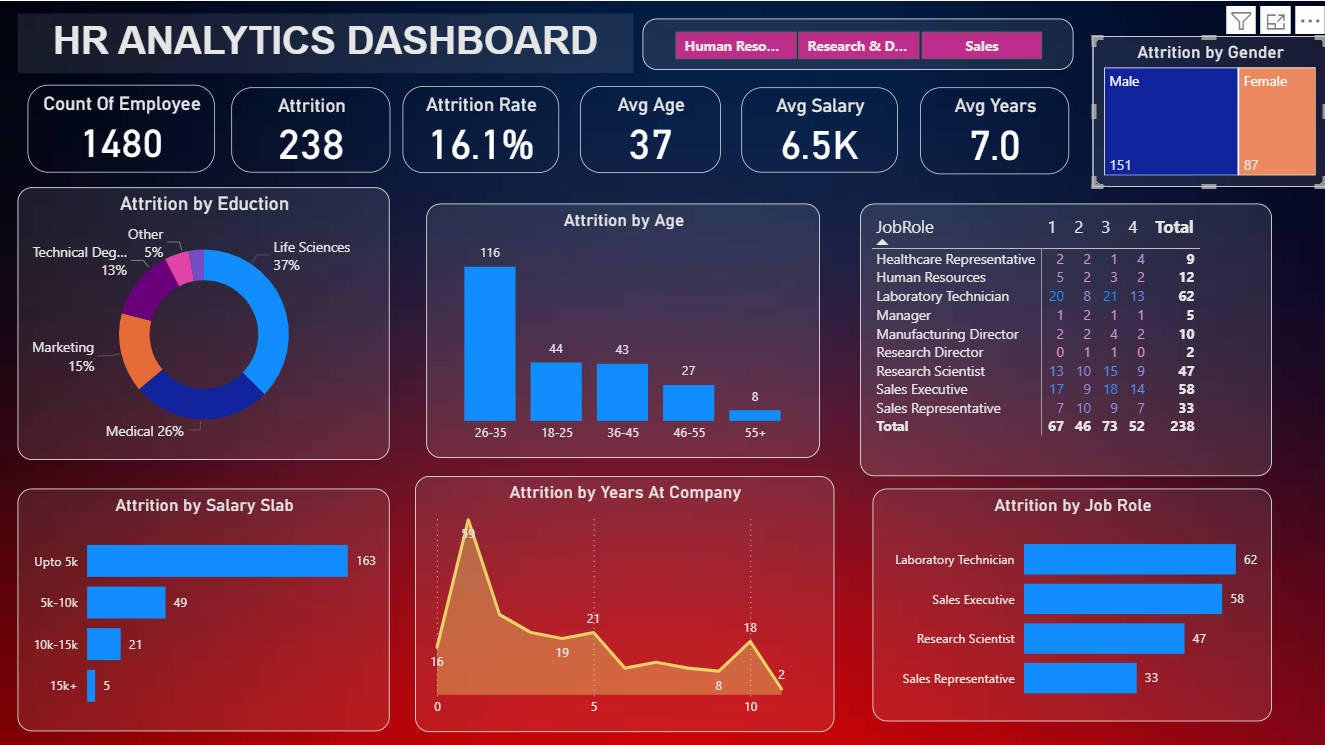

What the dashboard file says about the page in this screenshot:
{"tool":"powerbi","page":{"name":"Page 1","canvas":[1280,720],"ordinal":0},"visuals":[{"type":"card","title":"Count Of Employee","fields":{"Values":["CountNonNull(HR_Analytics.EmpID)"]},"box":[26.3,81.2,181.1,85.1],"z":0},{"type":"card","title":"Attrition","fields":{"Values":["Sum(HR_Analytics.AttritionCount)"]},"box":[223,83.3,153.7,82.3],"z":1000},{"type":"card","title":"Attrition Rate","fields":{"Values":["HR_Analytics.AttritionRate"]},"box":[389,81.9,150.9,83.7],"z":2000},{"type":"card","title":"Avg Age","fields":{"Values":["Avg(HR_Analytics.Age)"]},"box":[559.2,81.9,135.8,83.7],"z":3000},{"type":"card","title":"Avg Salary","fields":{"Values":["Avg(HR_Analytics.MonthlyIncome)"]},"box":[715.6,83.3,150.9,82.3],"z":4000},{"type":"card","title":"Avg Years","fields":{"Values":["Avg(HR_Analytics.YearsAtCompany)"]},"box":[888.5,83.3,144.1,83.7],"z":5000},{"type":"donutChart","title":"Attrition by Eduction","fields":{"Category":["HR_Analytics.EducationField"],"Y":["Sum(HR_Analytics.AttritionCount)"]},"box":[16.9,179.8,359.5,263],"z":6000},{"type":"columnChart","title":"Attrition by Age","fields":{"Y":["Sum(HR_Analytics.AttritionCount)"],"Category":["HR_Analytics.AgeGroup"]},"box":[411.7,194.9,380.1,245.6],"z":7000},{"type":"pivotTable","fields":{"Rows":["HR_Analytics.JobRole"],"Columns":["HR_Analytics.JobSatisfaction"],"Values":["Sum(HR_Analytics.AttritionCount)"]},"box":[830.2,194.9,397.9,263.5],"z":8000},{"type":"barChart","title":"Attrition by Salary Slab","fields":{"Category":["HR_Analytics.SalarySlab"],"Y":["Sum(HR_Analytics.AttritionCount)"]},"box":[16.9,470.5,359.5,234],"z":9000},{"type":"barChart","title":"Attrition by Job Role","fields":{"Category":["HR_Analytics.JobRole"],"Y":["Sum(HR_Analytics.AttritionCount)"]},"box":[842.5,470.7,385.6,225],"z":10000},{"type":"areaChart","title":"Attrition by Years At Company","fields":{"Category":["HR_Analytics.YearsAtCompany"],"Y":["Sum(HR_Analytics.AttritionCount)"]},"box":[400.7,458.3,404.8,247],"z":11000},{"type":"treemap","title":"Attrition by Gender","fields":{"Group":["HR_Analytics.Gender"],"Values":["Sum(HR_Analytics.AttritionCount)"]},"box":[1053.9,34.3,226.4,145.5],"z":12000},{"type":"slicer","fields":{"Values":["HR_Analytics.Department"]},"box":[620.2,16.5,415.8,49.4],"z":13000},{"type":"textbox","box":[16.5,12.3,594.2,57.6],"z":14000}]}

Visuals, with their boxes in screenshot pixels (x1, y1, x2, y2), scaled from the page's 1280x720 canvas onto the 1325x745 screenshot:
"Count Of Employee" card: (27, 84, 215, 172)
"Attrition" card: (231, 86, 390, 171)
"Attrition Rate" card: (403, 85, 559, 171)
"Avg Age" card: (579, 85, 719, 171)
"Avg Salary" card: (741, 86, 897, 171)
"Avg Years" card: (920, 86, 1069, 173)
"Attrition by Eduction" donutChart: (17, 186, 390, 458)
"Attrition by Age" columnChart: (426, 202, 820, 456)
pivotTable - HR_Analytics.JobRole x HR_Analytics.JobSatisfaction: (859, 202, 1271, 474)
"Attrition by Salary Slab" barChart: (17, 487, 390, 729)
"Attrition by Job Role" barChart: (872, 487, 1271, 720)
"Attrition by Years At Company" areaChart: (415, 474, 834, 730)
"Attrition by Gender" treemap: (1091, 35, 1324, 186)
slicer - HR_Analytics.Department: (642, 17, 1072, 68)
textbox: (17, 13, 632, 72)
